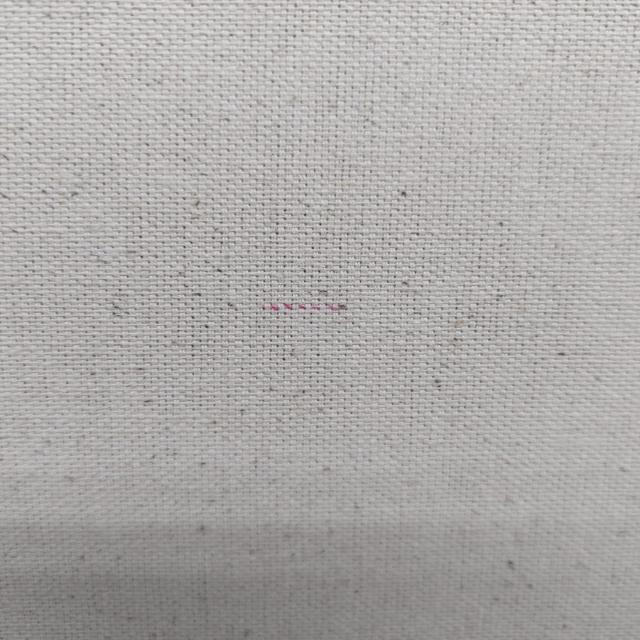stains: (151, 282, 404, 347)
